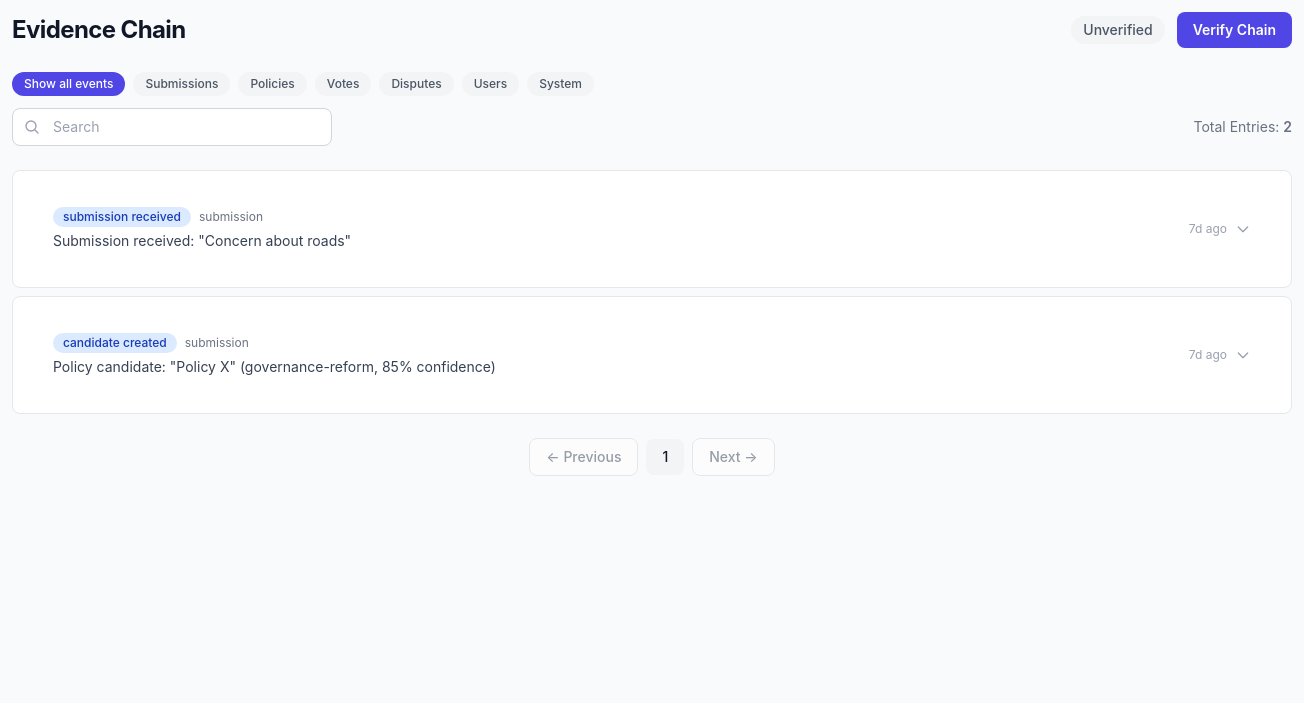
EvidencePage › expands entry details on click
The image size is (1304, 703).
Expected: the text "Submission received: \"Concern about roads\"" is shown, [53, 232, 351, 249]
Click the button that starts with "submission received" at {"x": 122, "y": 217}, box [33, 191, 1271, 267]
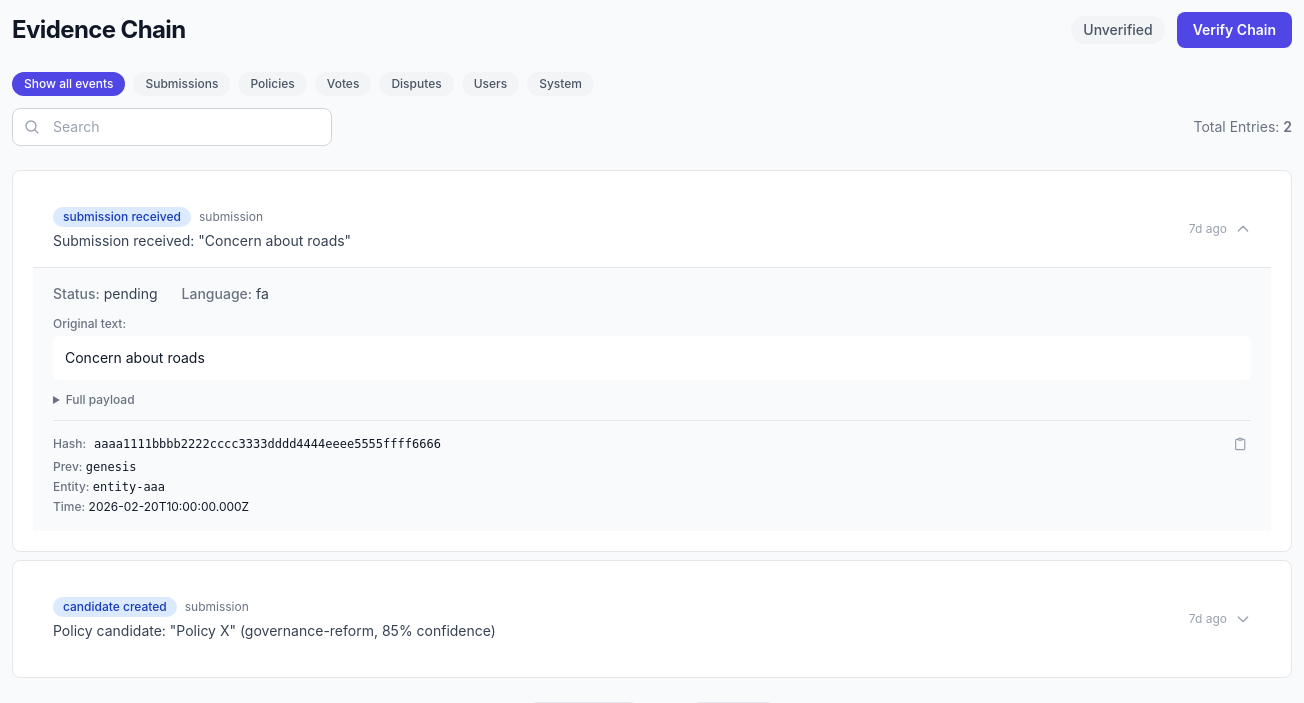
Expected: the text "entity-aaa" is shown, [93, 480, 165, 494]
